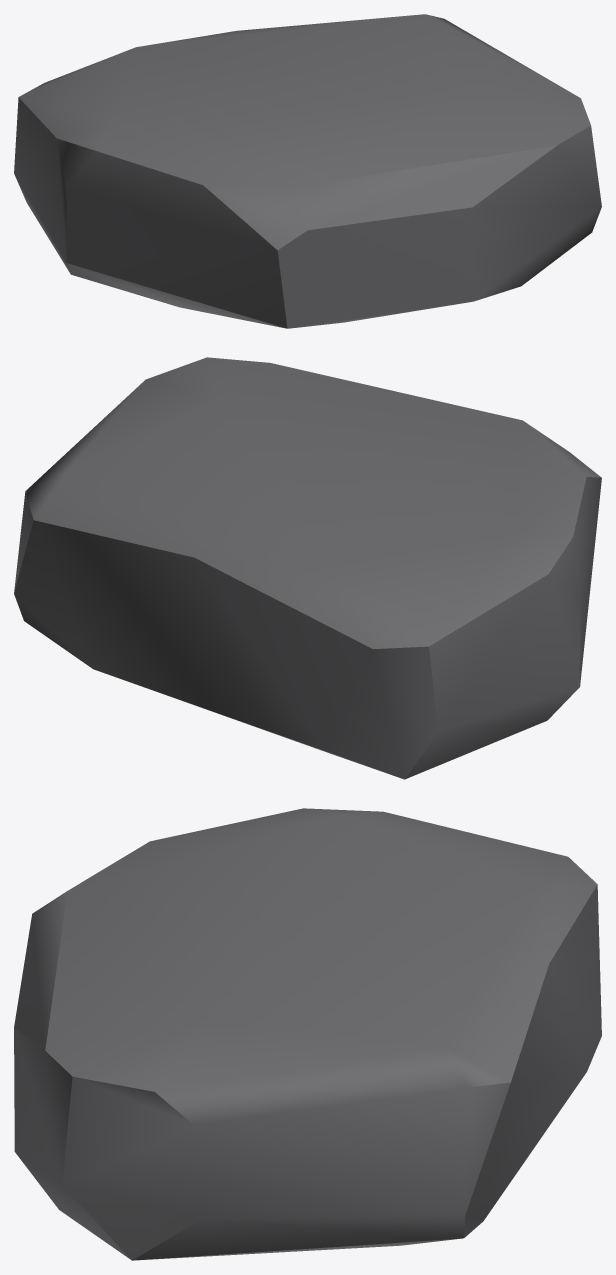
File: Stone_12.fbx
3 views of the same model, one above another, from view 1: azimuth 30°, elevation 25°; view 2: azimuth 150°, elevation 25°; view 3: azimuth 270°, elevation 25° (orthographic). The views are drawn at different scales.
Parts seen in each view (by area): view 1: Stone_12; view 2: Stone_12; view 3: Stone_12.
Boxes of the visible parts, x1=… form: Stone_12: x1=14, y1=14, x2=601, y2=328; Stone_12: x1=14, y1=357, x2=601, y2=779; Stone_12: x1=14, y1=808, x2=601, y2=1260.
Bounding box in the file's own units: 212 × 70.14 × 179.
